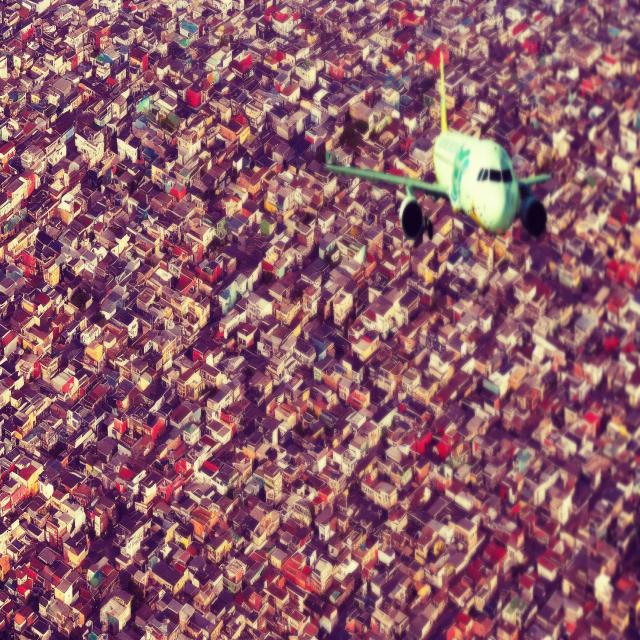airplane: (322, 48, 553, 244)
